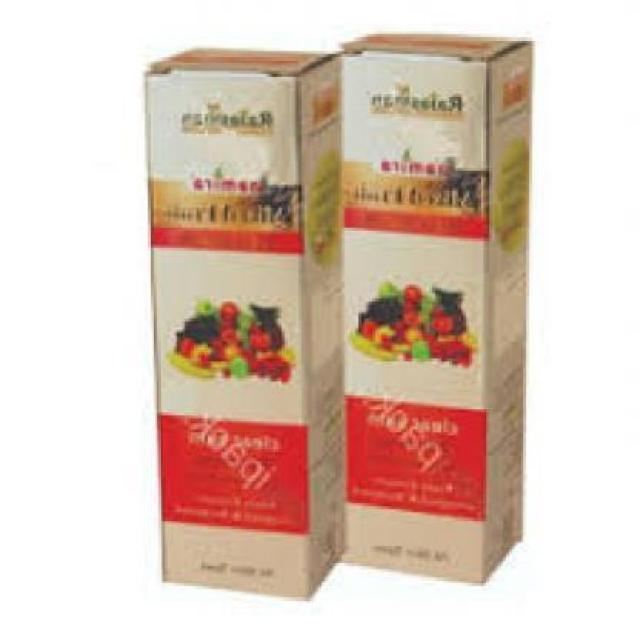box: (145, 50, 342, 599), (342, 29, 536, 580)
